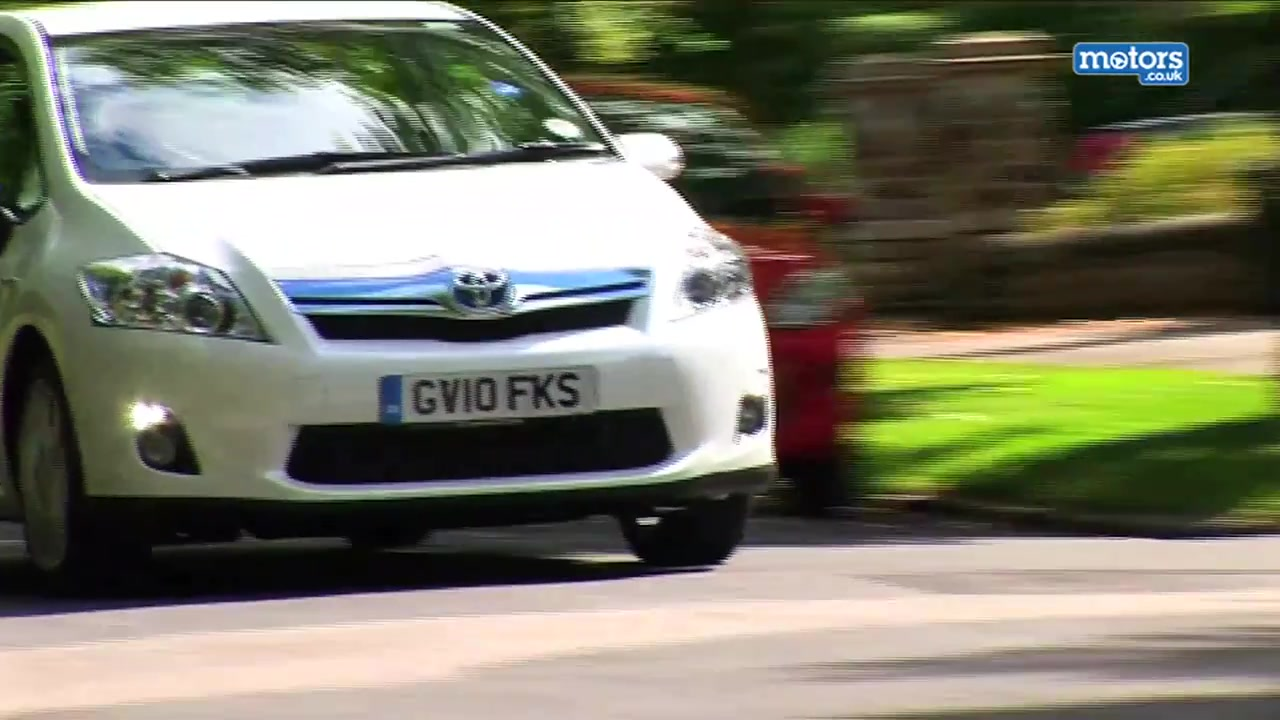car: (5, 1, 781, 592), (553, 71, 865, 470)
